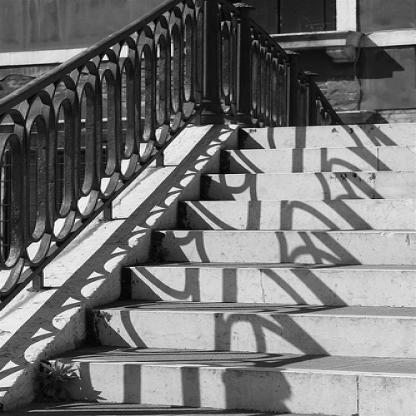stairs: (148, 253, 416, 415)
